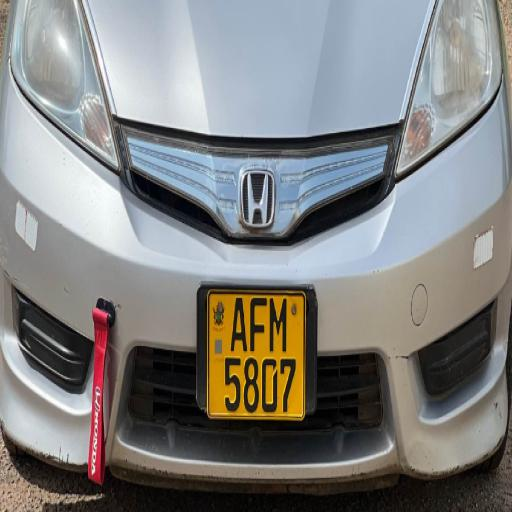number-plates: (208, 294, 298, 417)
